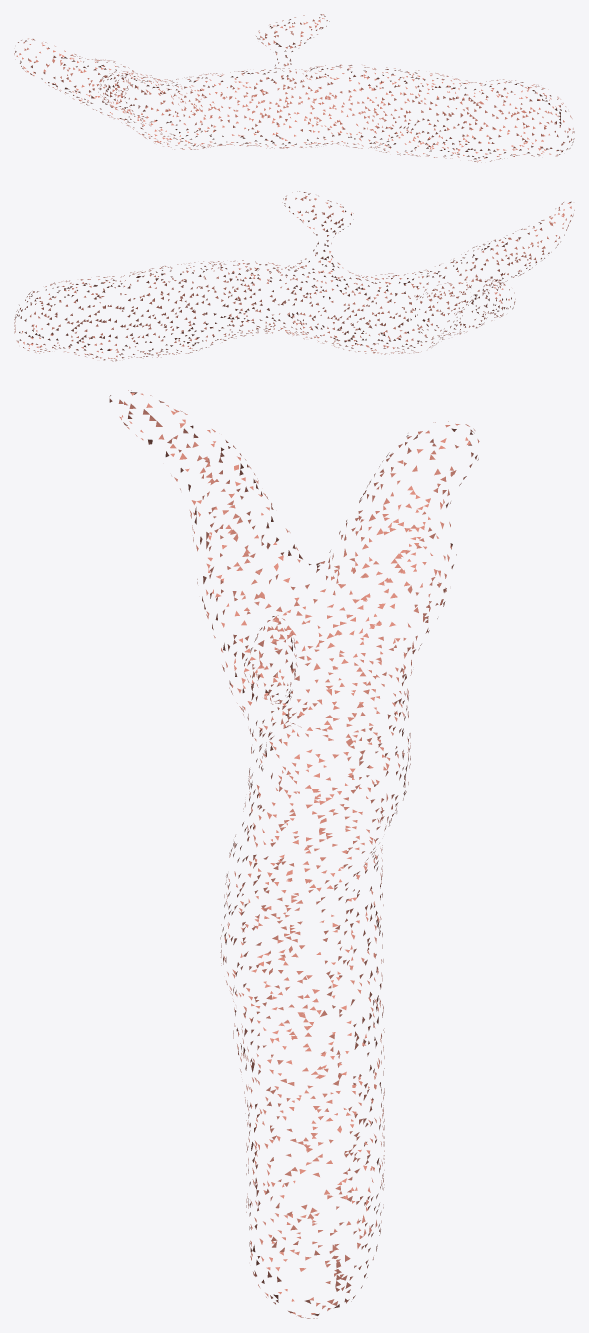
Rendered from morph_002.glb.
3 views of the same model, one above another, from view 1: azimuth 30°, elevation 25°; view 2: azimuth 150°, elevation 25°; view 3: azimuth 270°, elevation 25° (orthographic). The views are drawn at different scales.
Bounding box in the file's own units: 127 × 54.09 × 39.64.
